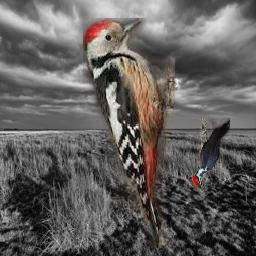Woodpecker: (83, 18, 175, 248), (192, 119, 231, 196)
